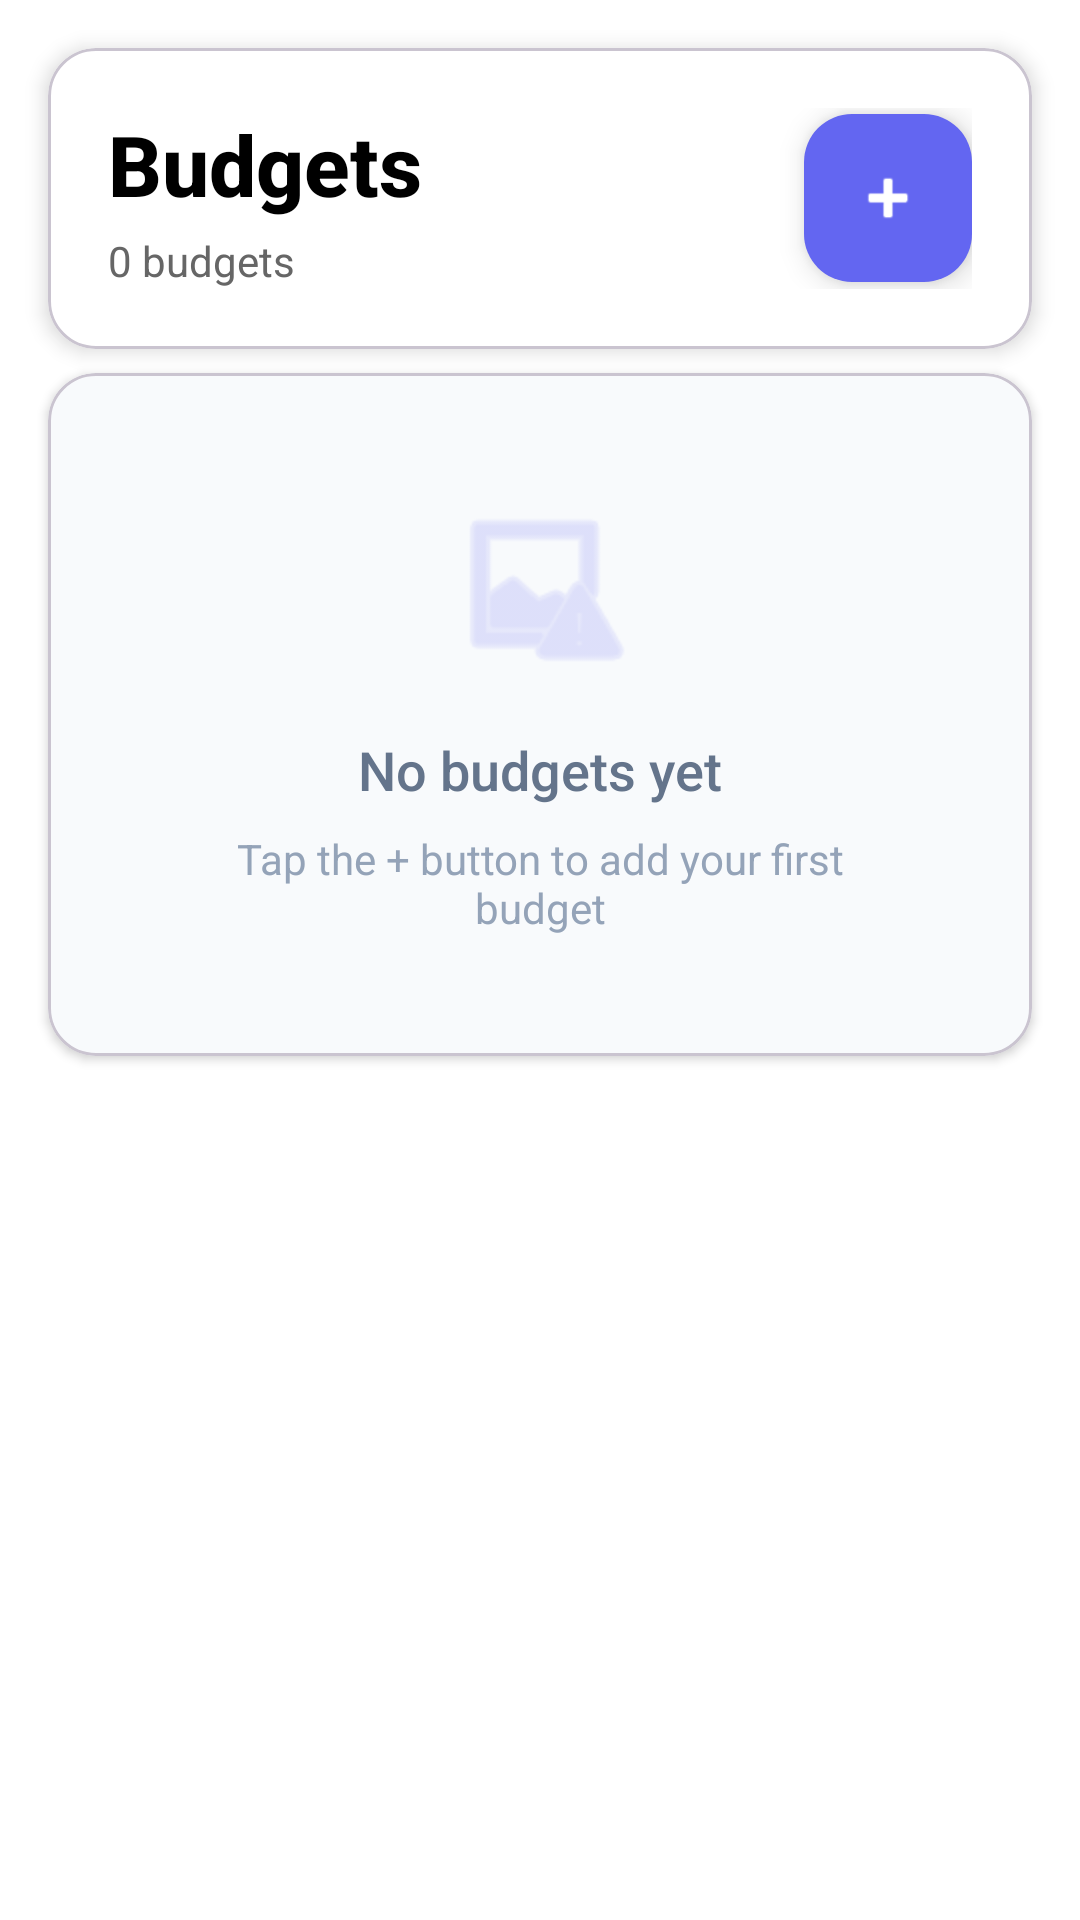

Where icons sit on this 1080 x 1920 app screen, as (x1, y1, x2, y2):
Add budget: (804, 114, 972, 282)
